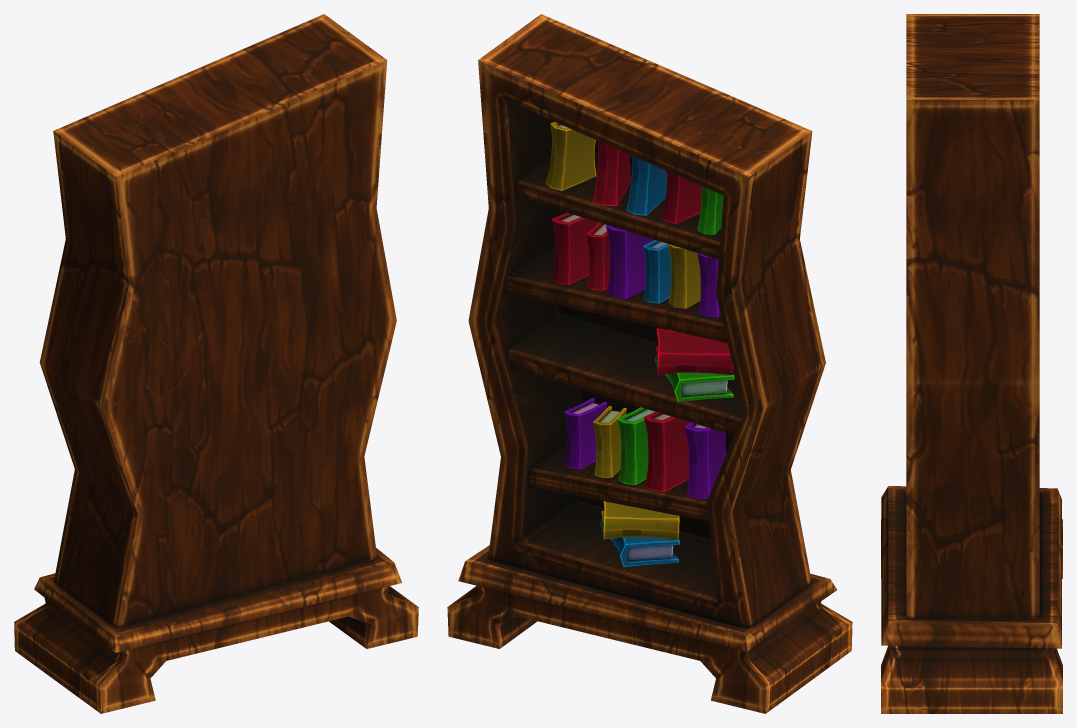
File: bookcase.obj
3 renders of one model, left to right at view 1: azimuth 30°, elevation 25°; view 2: azimuth 150°, elevation 25°; view 3: azimuth 270°, elevation 25°, orthographic. The views are drawn at different scales.
Parts seen in each view (by area): view 1: bookcase_final2_BookCase_Low10; view 2: bookcase_final2_BookCase_Low10; view 3: bookcase_final2_BookCase_Low10.
Part boxes in pixels (<box>): bookcase_final2_BookCase_Low10: <box>14,14,418,713</box>; bookcase_final2_BookCase_Low10: <box>447,14,852,713</box>; bookcase_final2_BookCase_Low10: <box>881,14,1062,713</box>.
Bounding box in the file's own units: 4.28 × 7.34 × 2.
6 materials, 6 textured.
